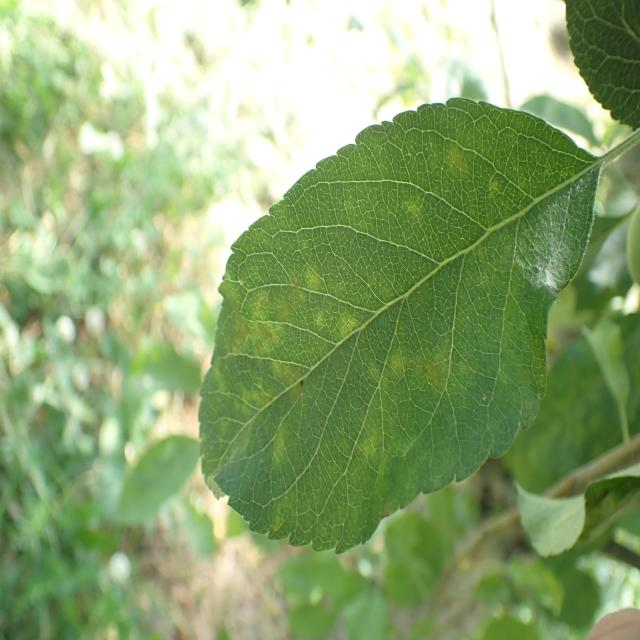scab: (202, 221, 510, 508)
